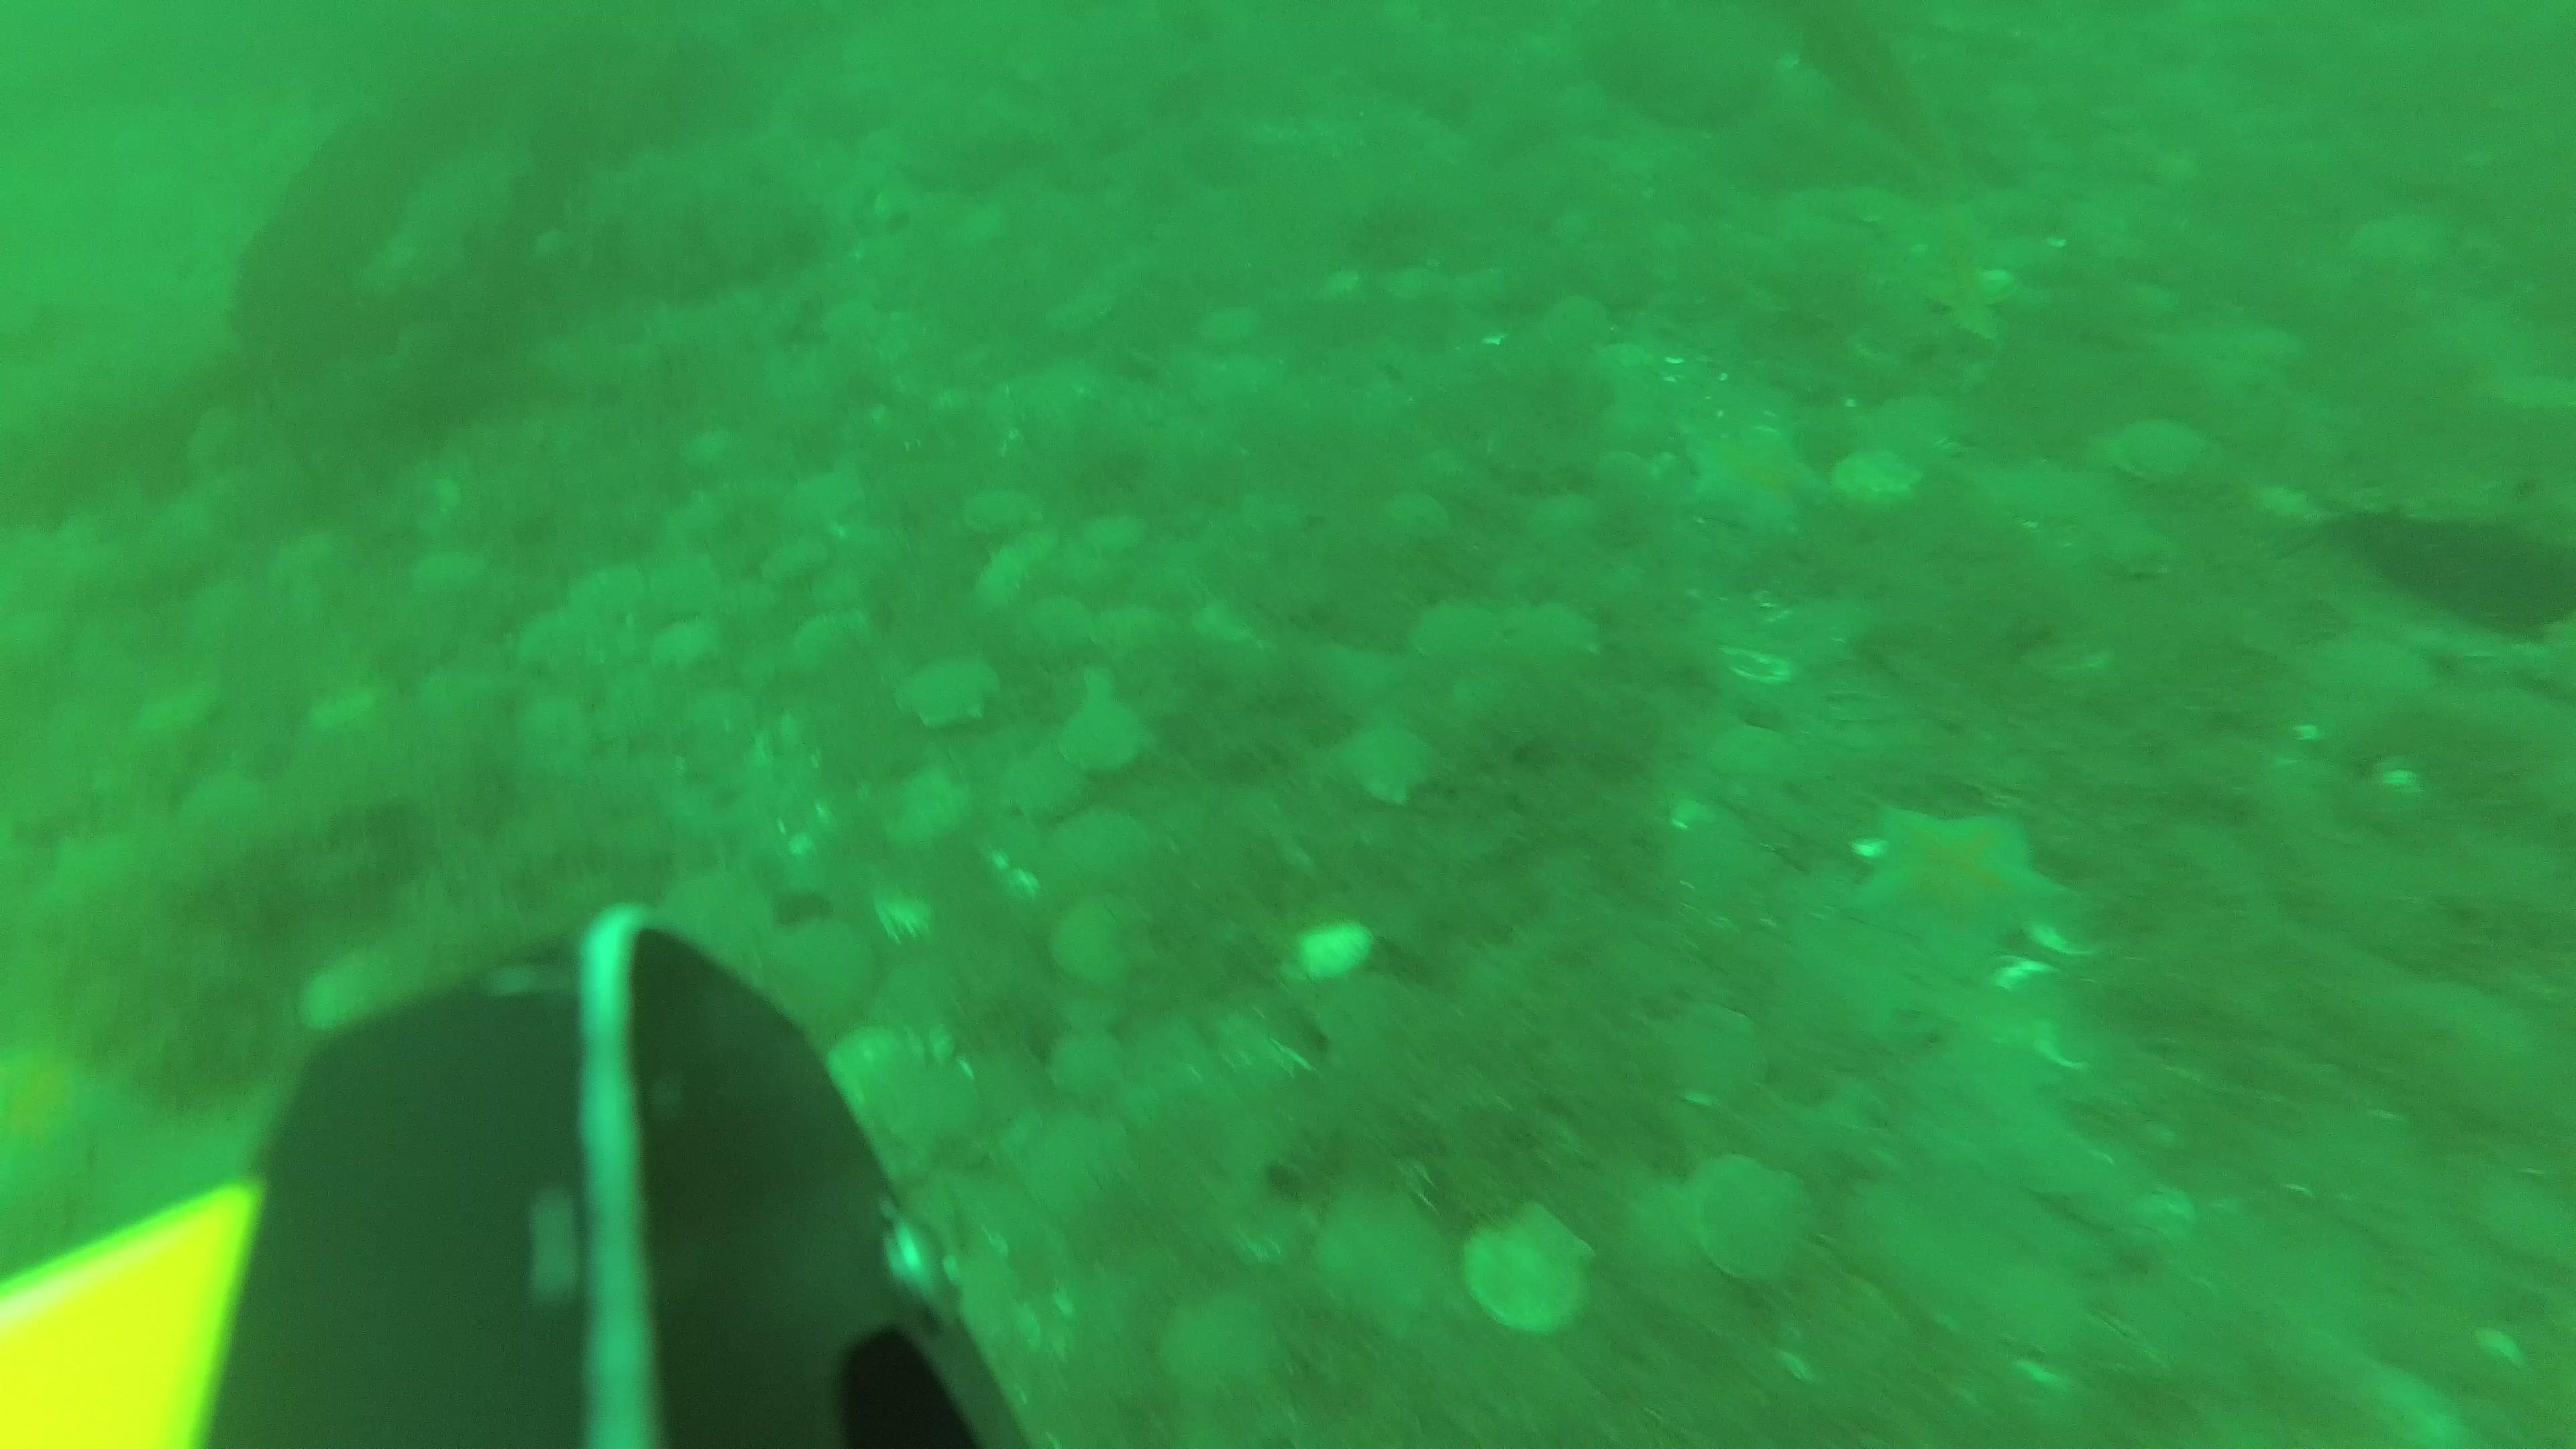scallop: (1311, 1187, 1456, 1334), (1460, 1192, 1603, 1339), (819, 1017, 977, 1146), (1683, 1148, 1824, 1288), (1152, 1292, 1299, 1405), (660, 863, 780, 987), (757, 913, 879, 1030), (292, 936, 428, 1035), (1017, 1113, 1139, 1221), (1658, 996, 1771, 1111), (1304, 968, 1426, 1072), (2302, 626, 2438, 711), (1051, 897, 1155, 991), (1339, 717, 1445, 805), (893, 653, 1008, 732), (878, 763, 971, 856), (996, 738, 1092, 823), (2350, 205, 2463, 274), (1054, 697, 1152, 777), (1047, 1016, 1131, 1108), (1407, 596, 1499, 674), (2105, 418, 2208, 487), (1054, 801, 1148, 876), (1516, 596, 1603, 674), (1281, 913, 1378, 982), (1704, 715, 1792, 789), (299, 678, 402, 736), (1833, 442, 1923, 506), (778, 467, 869, 531), (517, 610, 600, 674), (1536, 290, 1615, 356), (513, 692, 593, 757), (791, 609, 870, 672), (127, 686, 218, 741), (568, 554, 642, 617), (646, 614, 725, 672), (1527, 488, 1601, 550), (648, 556, 717, 621), (686, 683, 750, 752), (1714, 637, 1790, 694), (1085, 602, 1162, 656), (410, 545, 494, 596), (1019, 594, 1092, 651), (959, 490, 1044, 538), (759, 538, 835, 591), (1387, 485, 1453, 545), (1238, 490, 1309, 540), (1044, 287, 1120, 333), (1189, 598, 1256, 649), (1384, 264, 1449, 306), (1194, 306, 1261, 347), (1086, 511, 1146, 556), (1453, 267, 1507, 313), (1313, 264, 1361, 308)
starfish: (1840, 786, 2074, 985), (1660, 414, 1831, 547)
